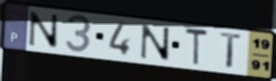3: (64, 13, 93, 56)
4: (107, 21, 134, 58)
N: (28, 10, 61, 51), (140, 23, 172, 64)
T: (184, 26, 211, 68), (218, 31, 246, 71)
